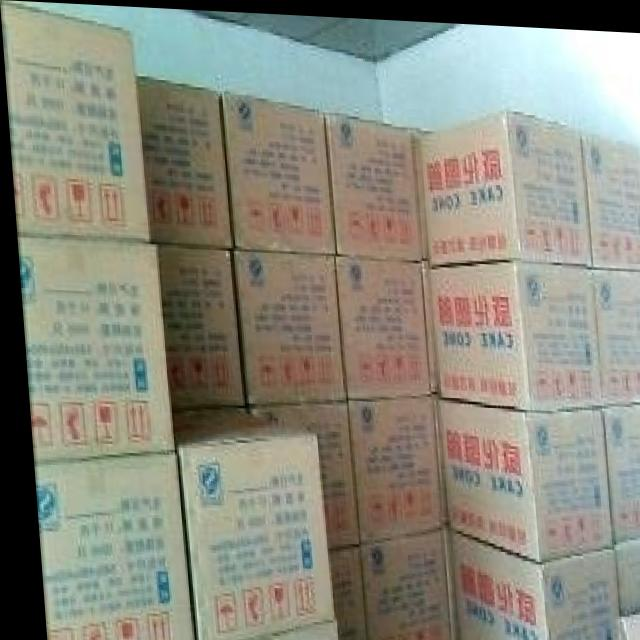box: (165, 406, 323, 640), (18, 232, 170, 464), (4, 0, 148, 240), (29, 449, 187, 640), (434, 393, 606, 559), (424, 255, 596, 410), (421, 106, 590, 262), (439, 518, 610, 640), (219, 91, 334, 249), (226, 249, 340, 406), (243, 397, 351, 548), (136, 75, 228, 246), (323, 106, 426, 257), (154, 243, 245, 406), (342, 390, 439, 541), (334, 253, 434, 397), (351, 518, 450, 640), (580, 125, 640, 268), (588, 263, 640, 402), (596, 397, 640, 538), (319, 541, 359, 640), (230, 612, 328, 640), (608, 532, 640, 608), (610, 603, 640, 640)
